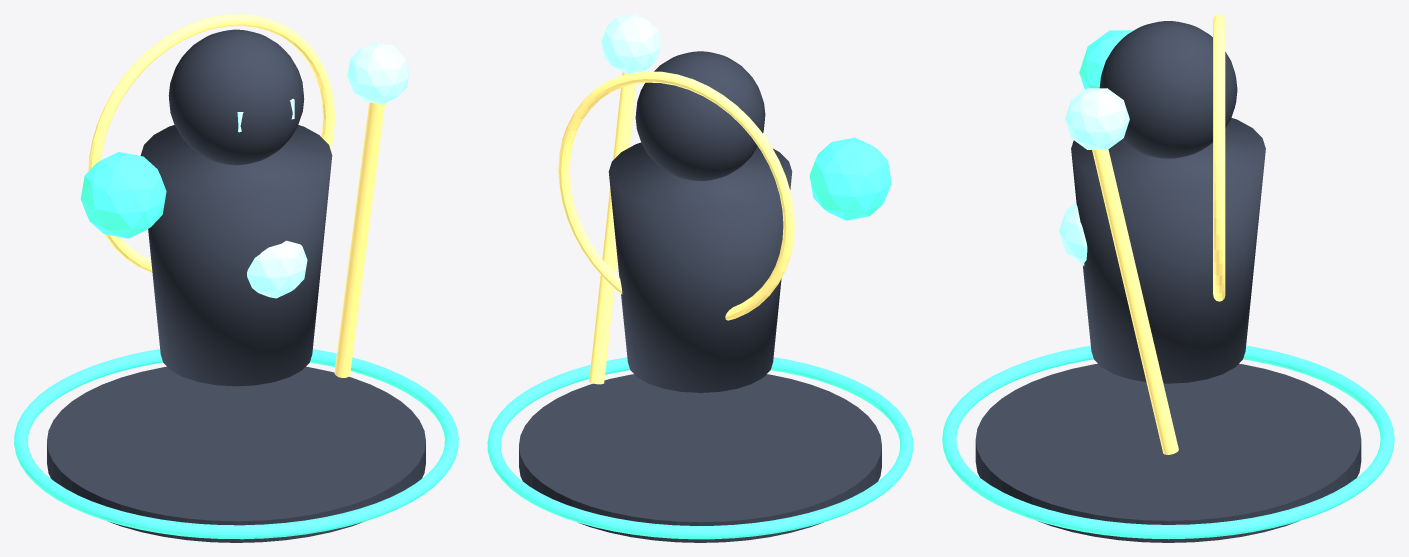
File: lycan.glb
3 views of the same model, side by side, from view 1: azimuth 30°, elevation 25°; view 2: azimuth 150°, elevation 25°; view 3: azimuth 270°, elevation 25° (orthographic). The views are drawn at different scales.
Visible parts, largest first — view 1: AbilityPedestal, AgentTorso, AgentHead, AbilityAuraRing, Pet_LYCAN, SovereignHalo, SignatureWeapon, WeaponApex, AgentCore; view 2: AbilityPedestal, AgentTorso, AgentHead, AbilityAuraRing, SovereignHalo, Pet_LYCAN, SignatureWeapon, WeaponApex; view 3: AbilityPedestal, AgentTorso, AgentHead, AbilityAuraRing, SignatureWeapon, SovereignHalo, WeaponApex, Pet_LYCAN, AgentCore.
Boxes of the visible parts, left/top/right/bottom form: AbilityPedestal: left=47, top=366, right=425, bottom=542; AgentTorso: left=140, top=125, right=332, bottom=386; AgentHead: left=168, top=29, right=304, bottom=165; AbilityAuraRing: left=14, top=349, right=458, bottom=539; Pet_LYCAN: left=80, top=152, right=166, bottom=238; SovereignHalo: left=88, top=14, right=334, bottom=272; SignatureWeapon: left=334, top=102, right=384, bottom=377; WeaponApex: left=347, top=42, right=409, bottom=104; AgentCore: left=247, top=240, right=307, bottom=298; AbilityPedestal: left=519, top=374, right=881, bottom=542; AgentTorso: left=608, top=142, right=792, bottom=392; AgentHead: left=635, top=51, right=765, bottom=181; AbilityAuraRing: left=487, top=357, right=913, bottom=539; SovereignHalo: left=558, top=71, right=794, bottom=320; Pet_LYCAN: left=809, top=137, right=891, bottom=220; SignatureWeapon: left=589, top=72, right=636, bottom=384; WeaponApex: left=601, top=14, right=660, bottom=74; AbilityPedestal: left=975, top=363, right=1361, bottom=542; AgentTorso: left=1071, top=118, right=1265, bottom=383; AgentHead: left=1099, top=21, right=1237, bottom=158; AbilityAuraRing: left=942, top=345, right=1394, bottom=539; SignatureWeapon: left=1092, top=149, right=1178, bottom=454; SovereignHalo: left=1213, top=14, right=1225, bottom=301; WeaponApex: left=1065, top=88, right=1129, bottom=149; Pet_LYCAN: left=1079, top=30, right=1133, bottom=89; AgentCore: left=1059, top=203, right=1087, bottom=265.
Size of the model in its own units: 2.23 by 2.36 by 2.23.
